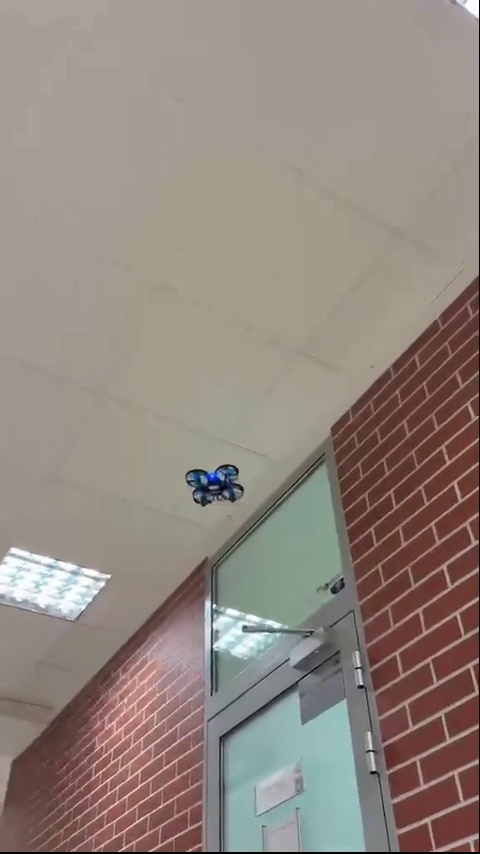drone: (188, 466, 242, 508)
